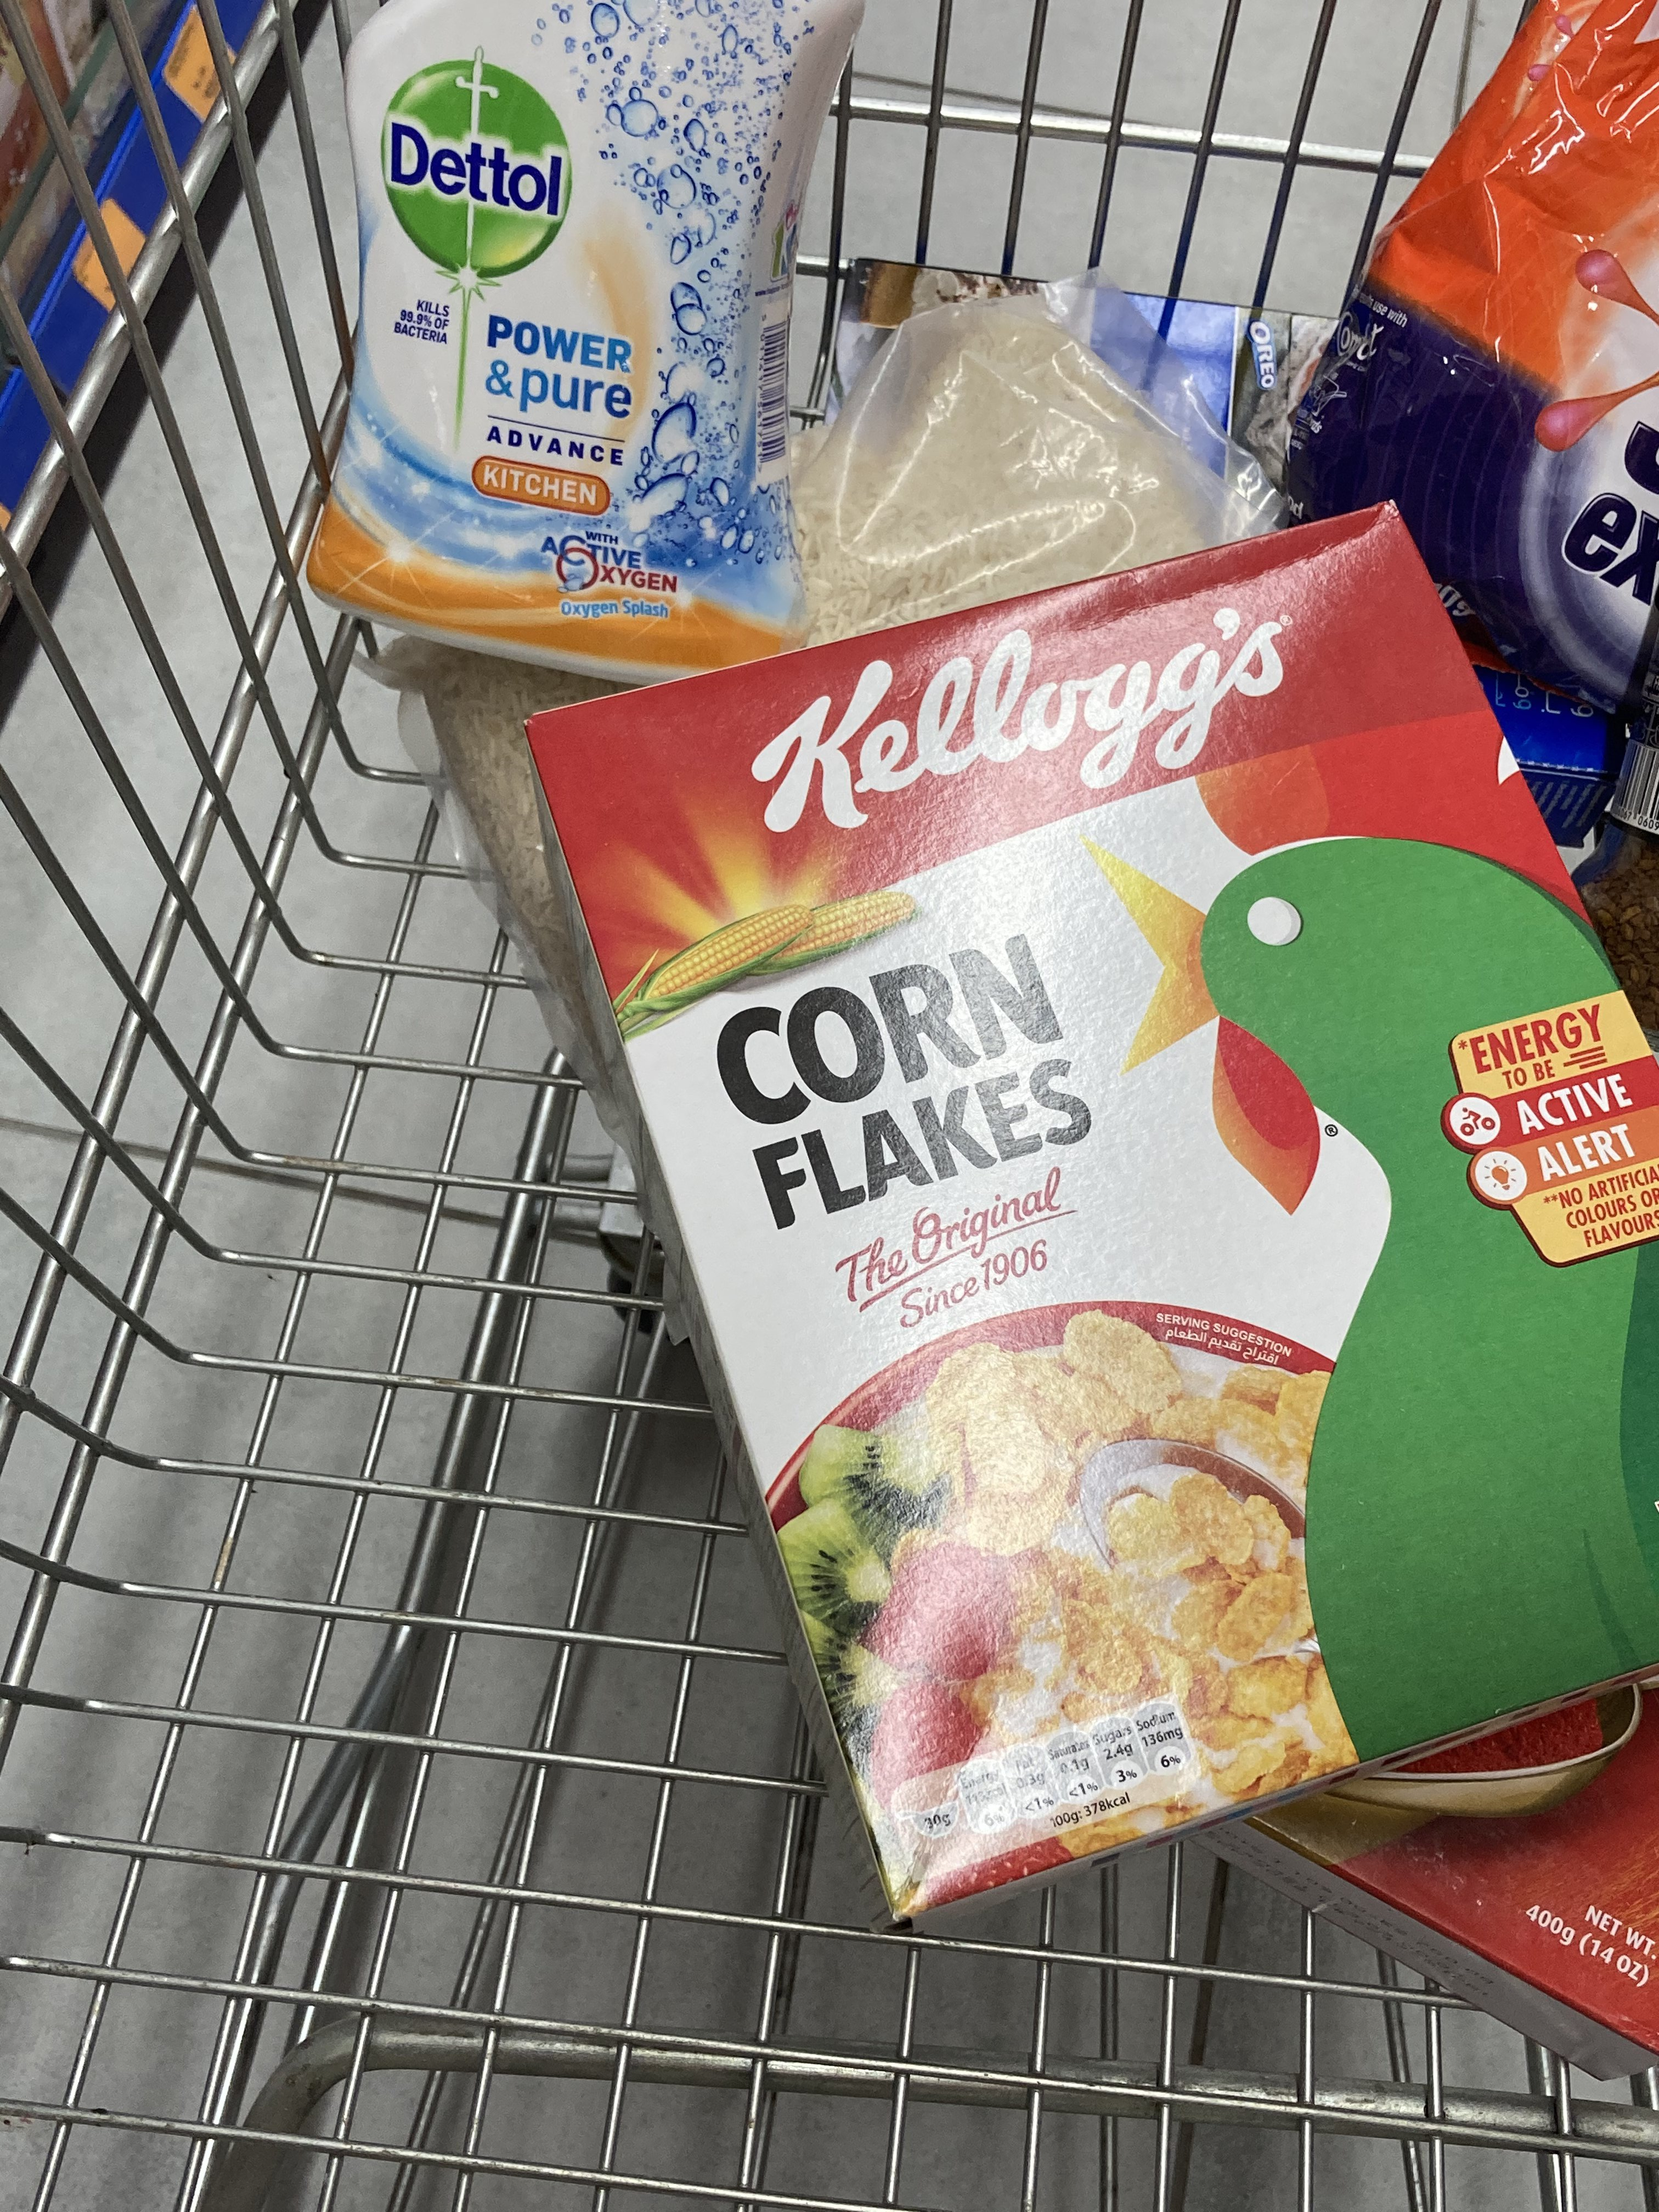Kellogg's Corn Flakes: (523, 495, 1659, 1926)
